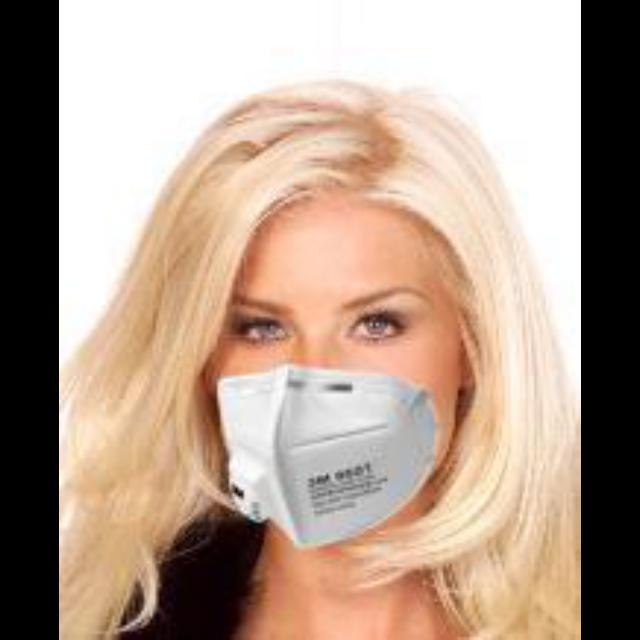suspicion: (170, 143, 512, 545)
